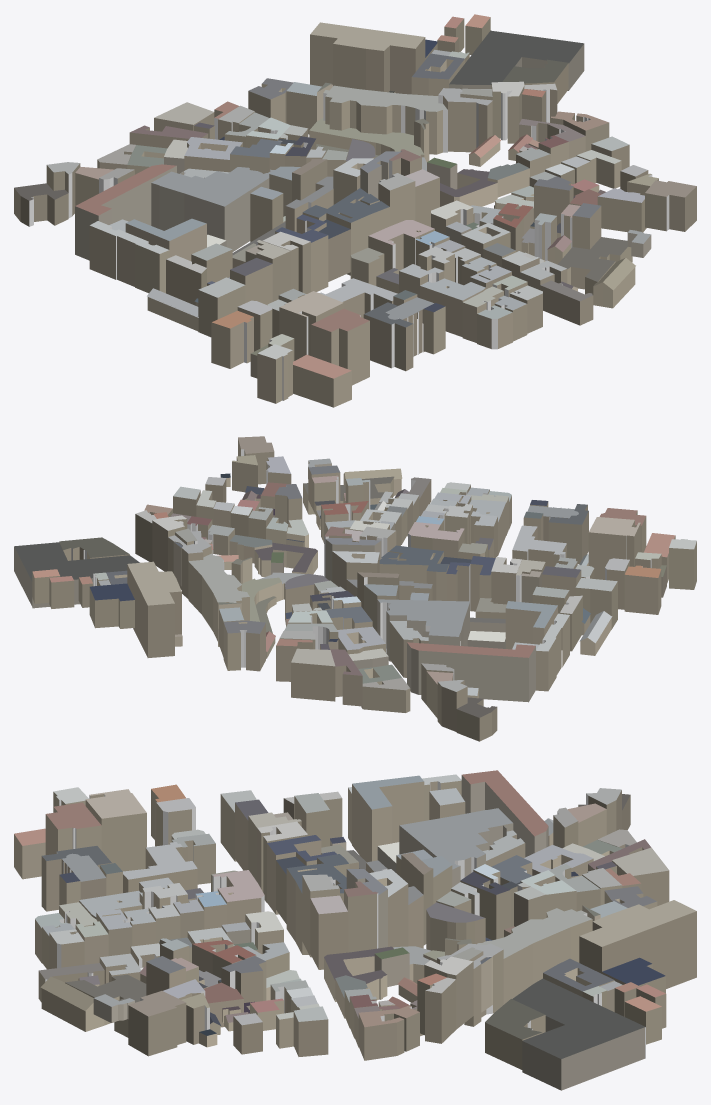
The picture shows the model from 3 angles, top to bottom: view 1: azimuth 30°, elevation 25°; view 2: azimuth 150°, elevation 25°; view 3: azimuth 270°, elevation 25°; orthographic projection. The views are drawn at different scales.
Parts seen in each view (by area): view 1: tuile; view 2: tuile; view 3: tuile.
Boxes of the visible parts, x1,y1,x2,y2 form: tuile: [14, 14, 696, 407]; tuile: [14, 436, 696, 741]; tuile: [14, 770, 696, 1090].
Bounding box in the file's own units: 295 × 51.61 × 278.
